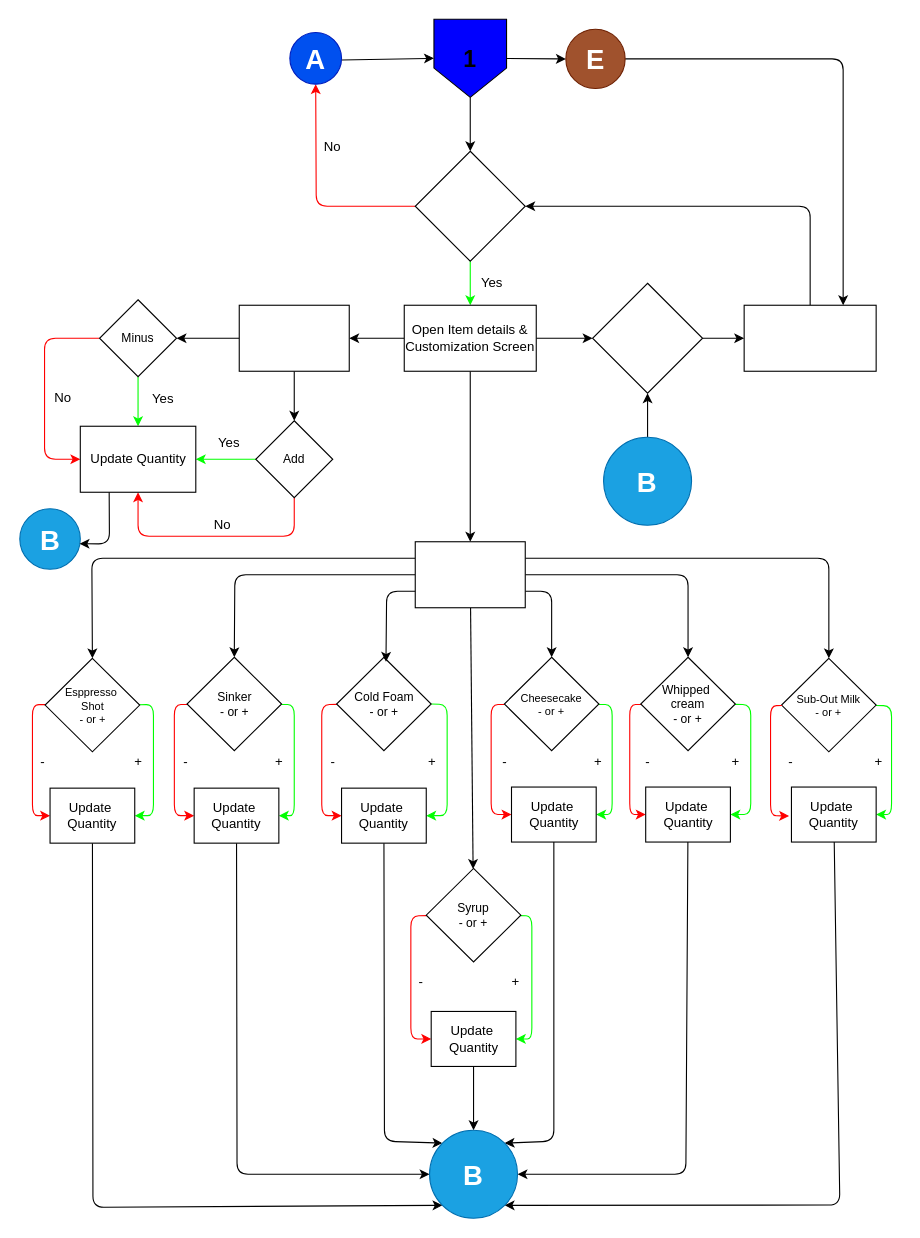
Image size: 920x1238. Some labels were removed from this diagram. The shapes that lost their labels are listed below. From the top down, each one's box as (x1, y1, x2, y2) in pixels, then its label:
(414, 150, 525, 261): Select items?
(238, 304, 349, 371): Quantity
(591, 282, 703, 393): Add to Order
(743, 304, 876, 371): Update Ordered Items, Total Price, Total Item
(414, 541, 525, 608): Add-ons: optional
